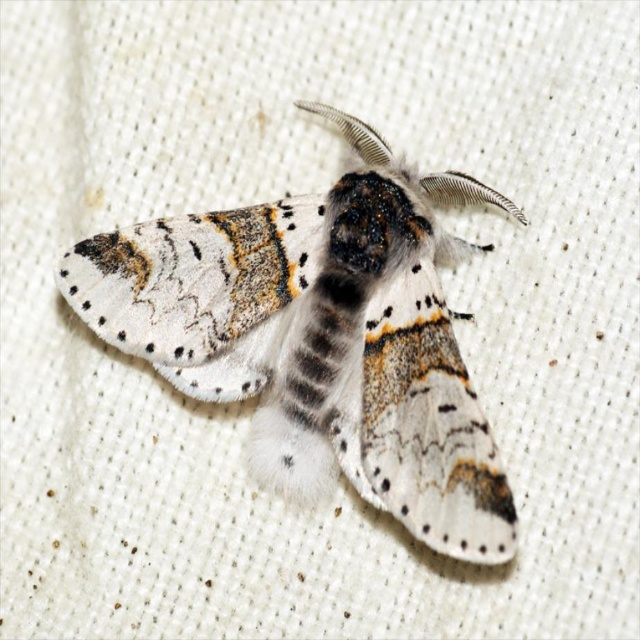Butterfly: (50, 100, 522, 567)
